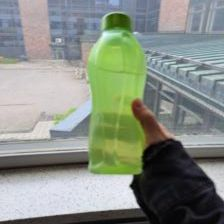bottle: (83, 10, 147, 178)
